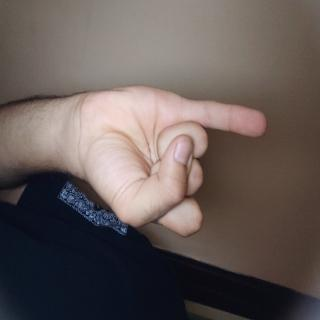MEEM: (60, 61, 181, 320)
